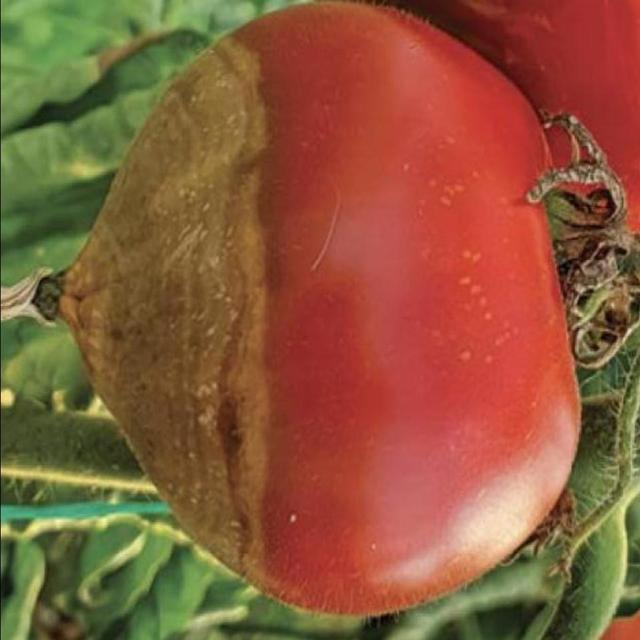Blossom End Rot Fruit: (20, 6, 183, 400)
